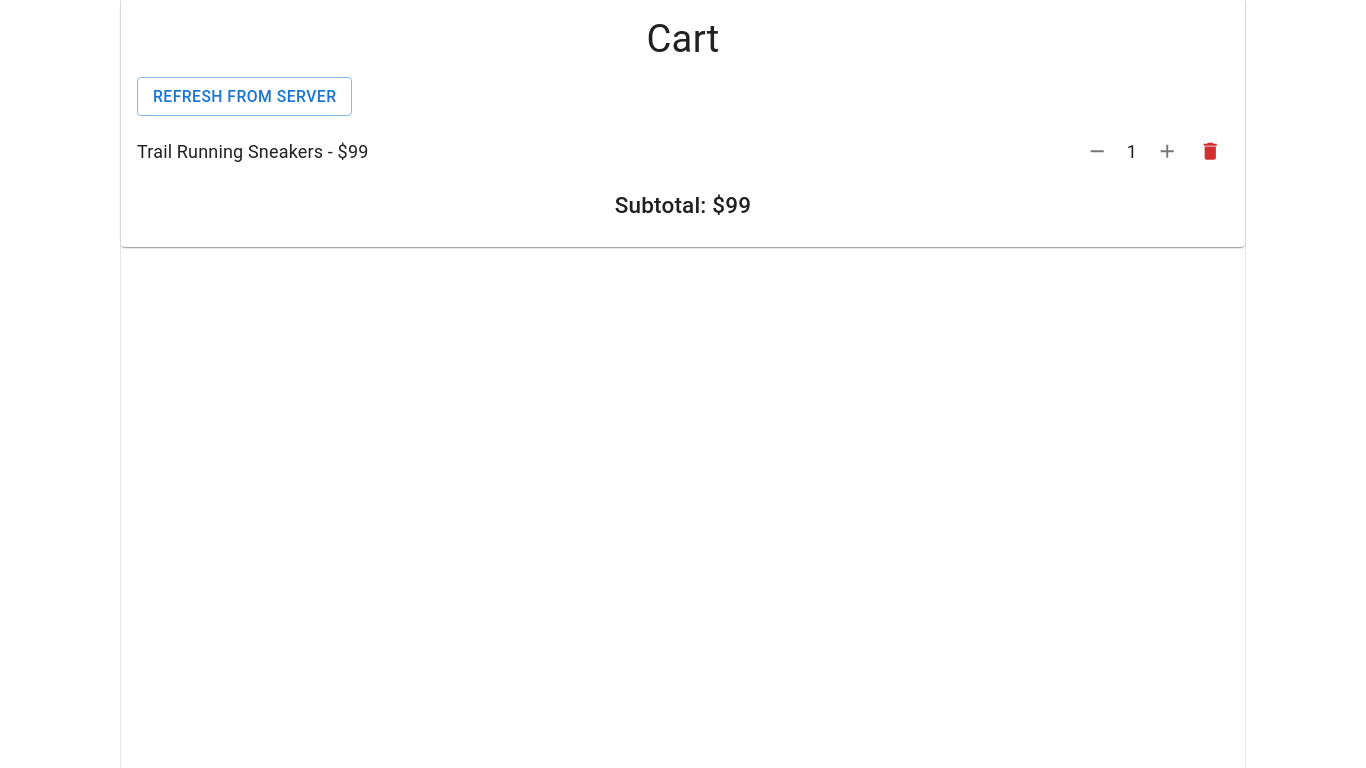
Test: CartPage › rolls back optimistic quantity update on API failure
Expected: the text "1" is shown, [1127,141,1137,162]
Click the button named "increase quantity". click: (1167, 151)
box: [1148,132,1186,171]
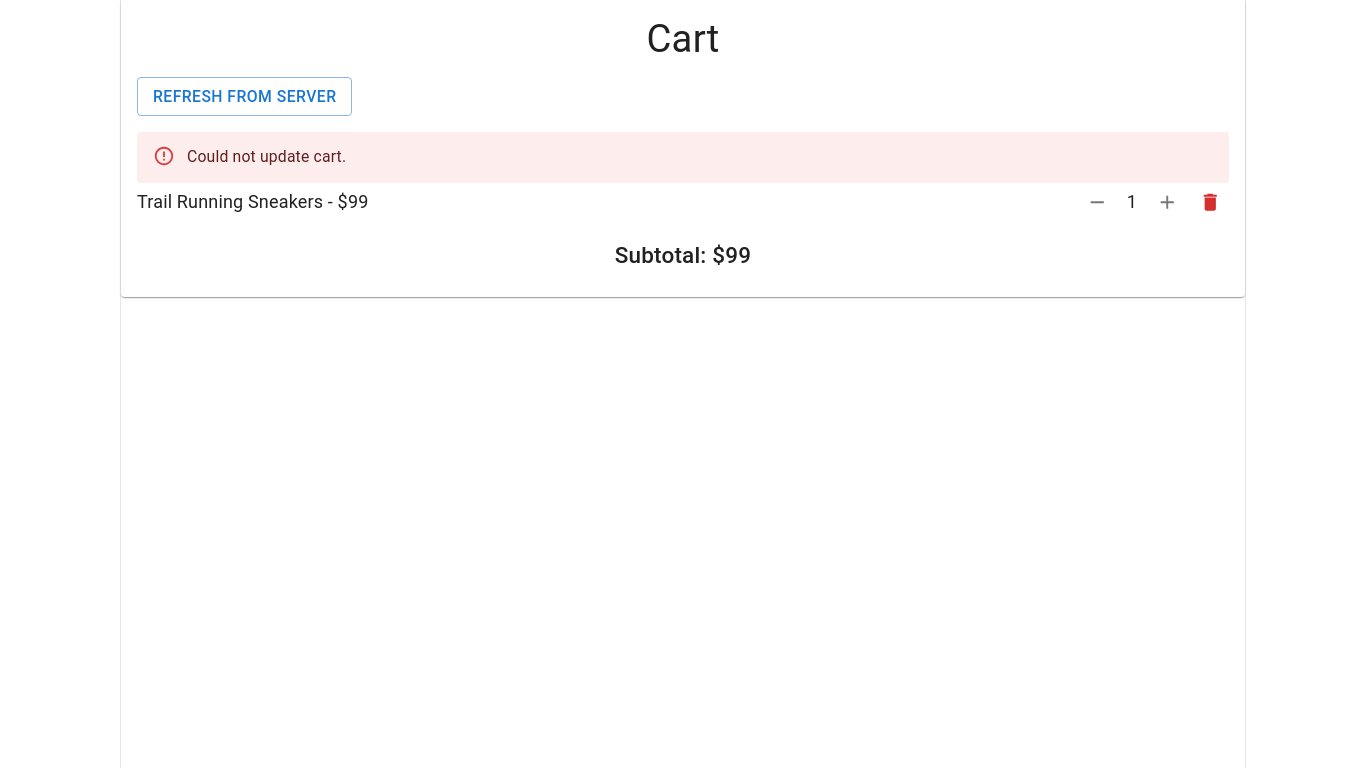
Expected: the text "1" is shown, [1127,191,1137,212]
Expected: the text "Could not update cart." is shown, [187,147,346,166]
